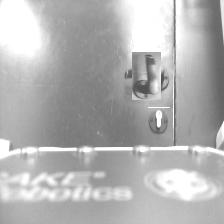Door Handle: (127, 57, 166, 96)
Lock: (148, 107, 170, 134)
